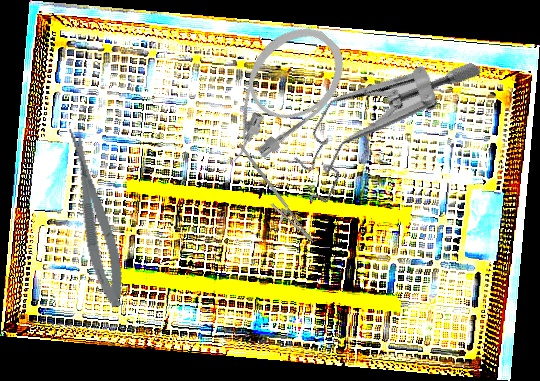Cannula: (193, 10, 362, 182)
Micro Scissor: (62, 124, 131, 310)
Needle Holder: (220, 143, 326, 250)
Speculum: (276, 8, 486, 245)
